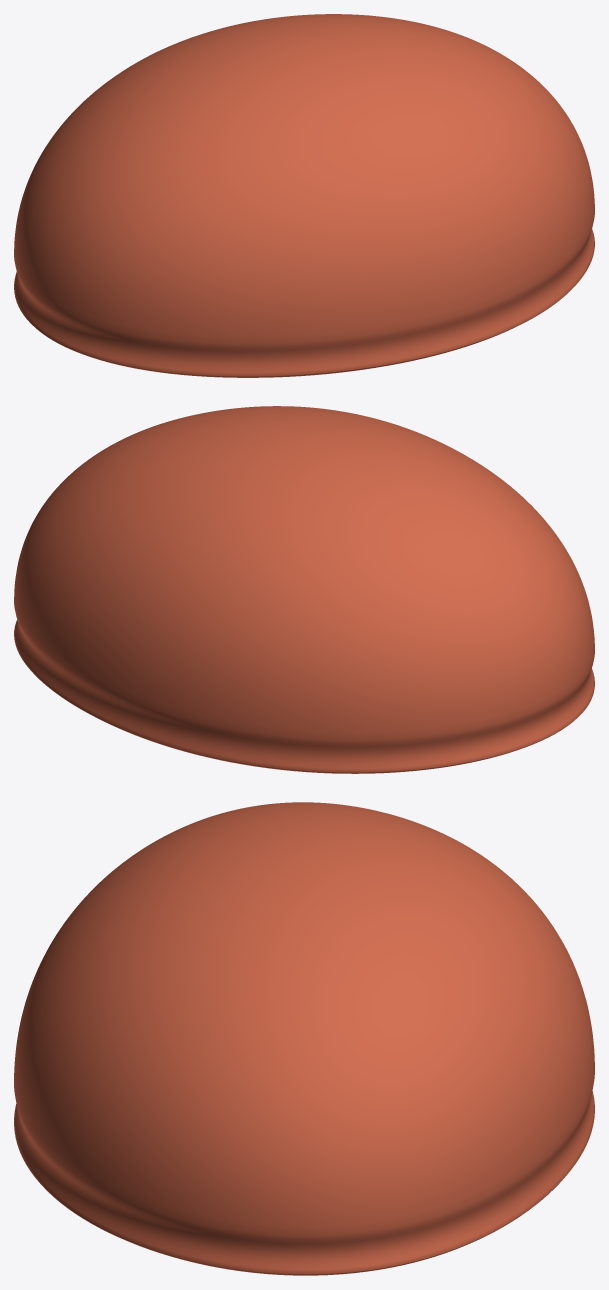
The model's file is lehsunia.glb.
The picture shows the model from 3 angles, top to bottom: view 1: azimuth 30°, elevation 25°; view 2: azimuth 150°, elevation 25°; view 3: azimuth 270°, elevation 25°; orthographic projection. The views are drawn at different scales.
Parts seen in each view (by area): view 1: stone; view 2: stone; view 3: stone.
Part boxes in pixels (bbox=[...]): stone: bbox=[14, 14, 594, 377]; stone: bbox=[14, 406, 594, 773]; stone: bbox=[14, 802, 594, 1275].
Bounding box in the file's own units: 1.01 × 0.448 × 0.801.
